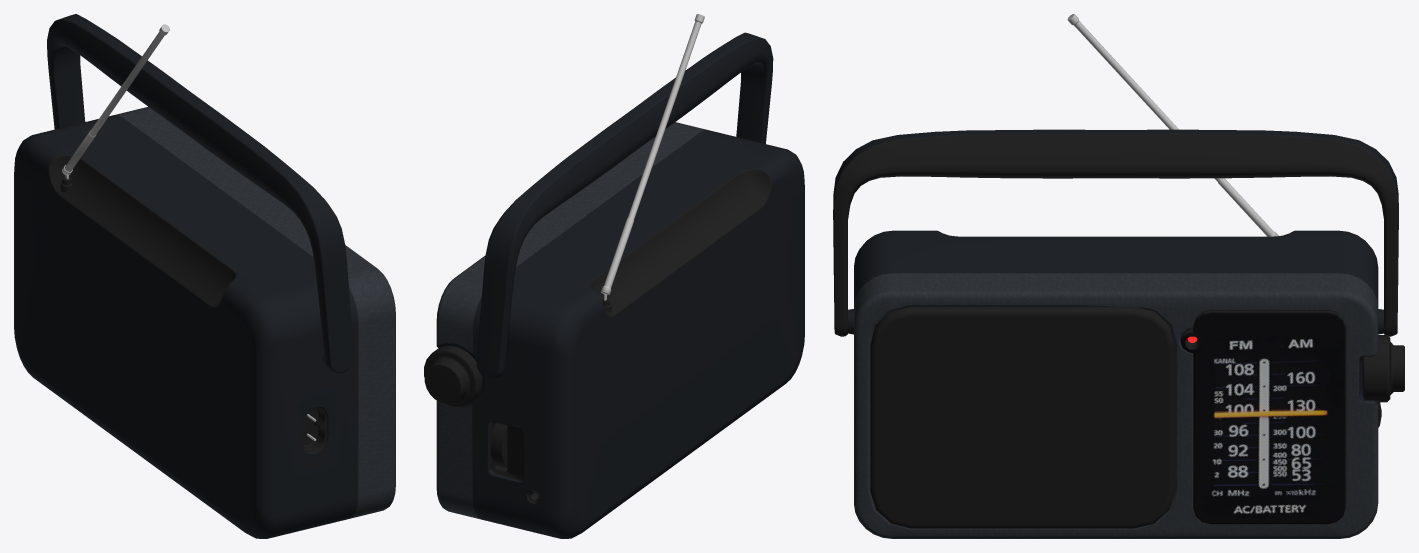
The model's file is Radio.fbx.
3 renders of one model, left to right at view 1: azimuth 30°, elevation 25°; view 2: azimuth 150°, elevation 25°; view 3: azimuth 270°, elevation 25°, orthographic. The views are drawn at different scales.
Parts seen in each view (by area): view 1: Speaker_low_T_Radio_0; view 2: Speaker_low_T_Radio_0; view 3: Speaker_low_T_Radio_0.
Part boxes in pixels (x1,y1,x2,y2): Speaker_low_T_Radio_0: (14,14,395,538); Speaker_low_T_Radio_0: (424,14,804,538); Speaker_low_T_Radio_0: (833,14,1404,538).
Size of the model in its own units: 242 by 727 by 814.
1 material, 1 textured.
